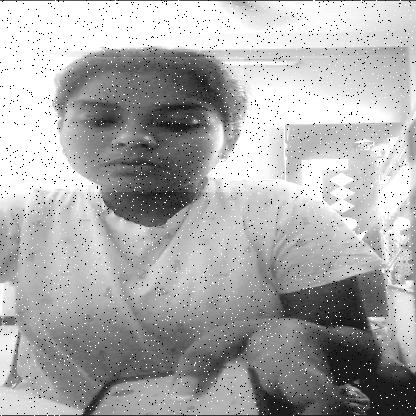Normal: (46, 57, 244, 192)
